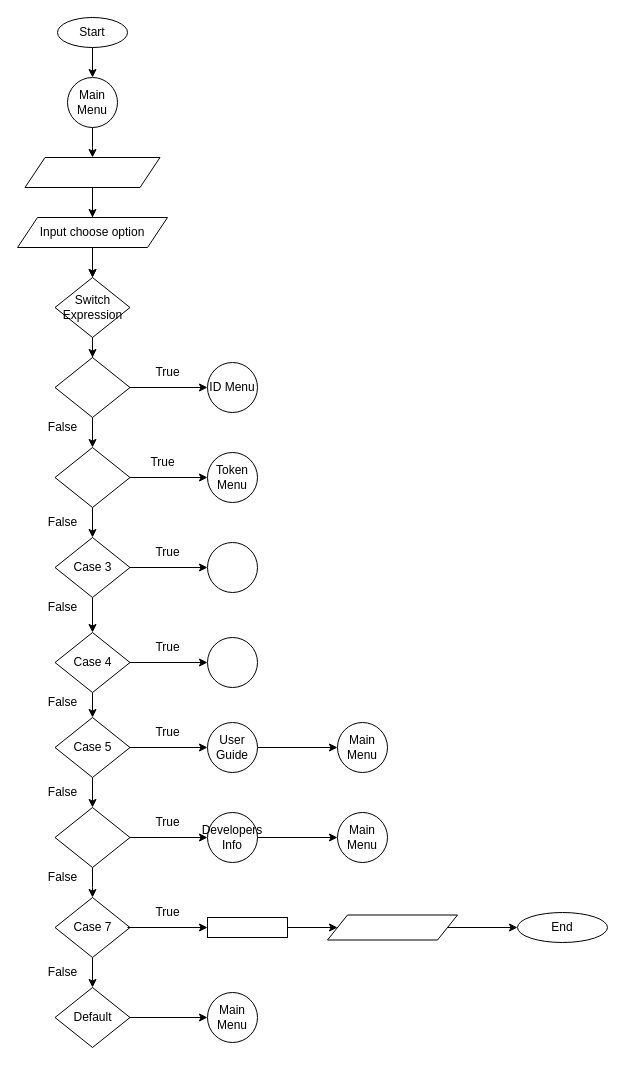
The diagram is 625 pixels wide and 1065 high, and some of its shapes have lost their labels. The centre of each missing label's shape, as x and y in pixels:
Appointment Menu: the point at 232,567
Case 1: the point at 92,387
Case 2: the point at 92,477
Case 6: the point at 92,837
Custom Menu: the point at 232,662
Display Main menu: the point at 92,172
Display Thank You: the point at 392,927
Exit: the point at 247,927
